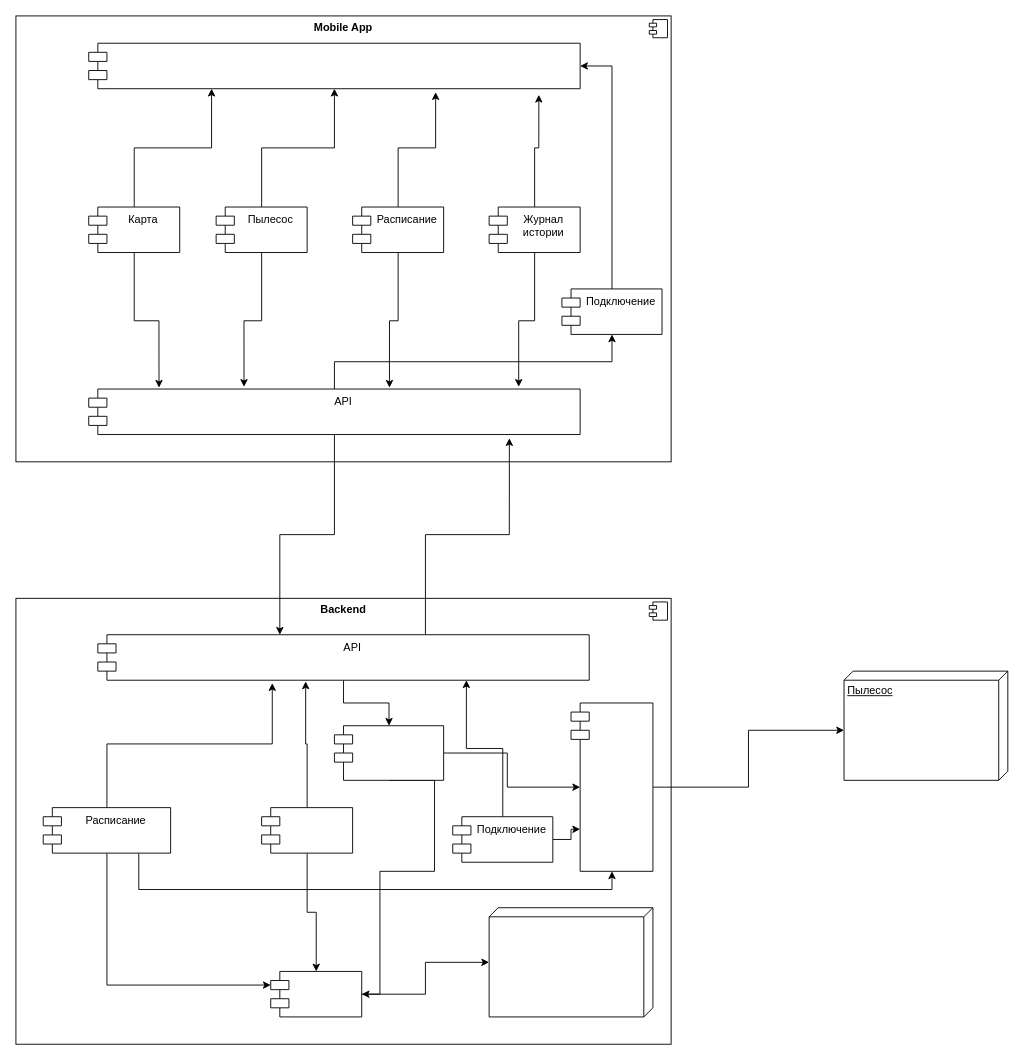
Some shapes in this 1024 by 1060 pixel diagram are drawn without their labels. Each missing label, with the centre of its shape:
API пылесоса: [611,786]
База данных: [570,962]
Графический интерфейс: [334,65]
Журнал уборок: [307,830]
Коннектор к БД: [316,994]
Состояния пылесоса: [389,752]
